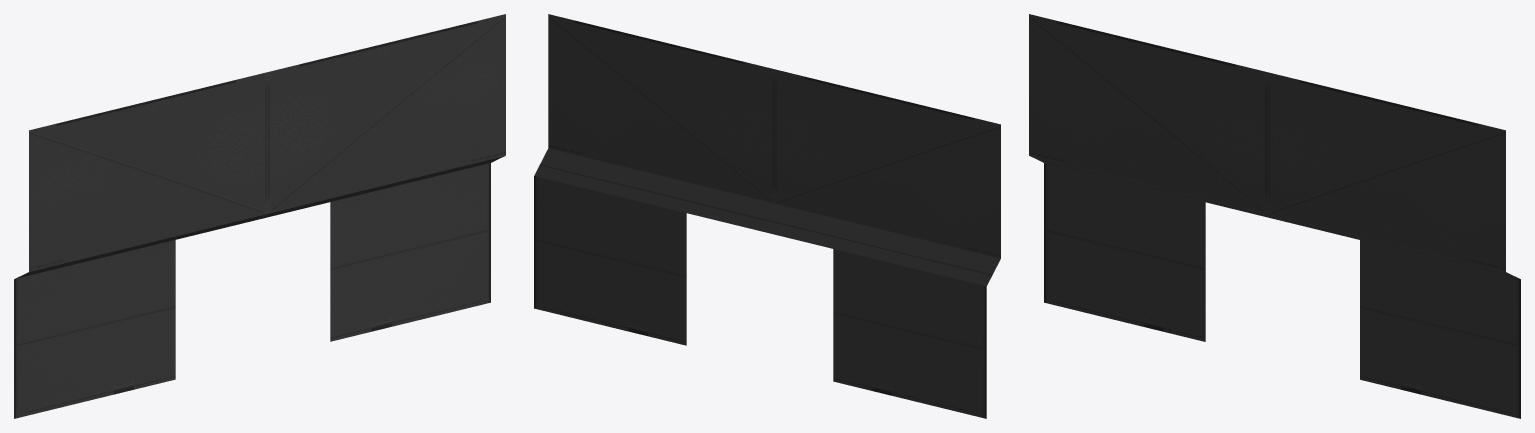
The model's file is Wallhole1°Room.fbx.
The picture shows the model from 3 angles, left to right: view 1: azimuth 30°, elevation 25°; view 2: azimuth 150°, elevation 25°; view 3: azimuth 330°, elevation 25°; orthographic projection. The views are drawn at different scales.
Parts seen in each view (by area): view 1: Wallhole1°Room; view 2: Wallhole1°Room; view 3: Wallhole1°Room.
Part boxes in pixels (x1,y1,x2,y2): Wallhole1°Room: (14,14,505,418); Wallhole1°Room: (534,14,1000,418); Wallhole1°Room: (1029,14,1520,418).
Bounding box in the file's own units: 800 × 480 × 43.14.
